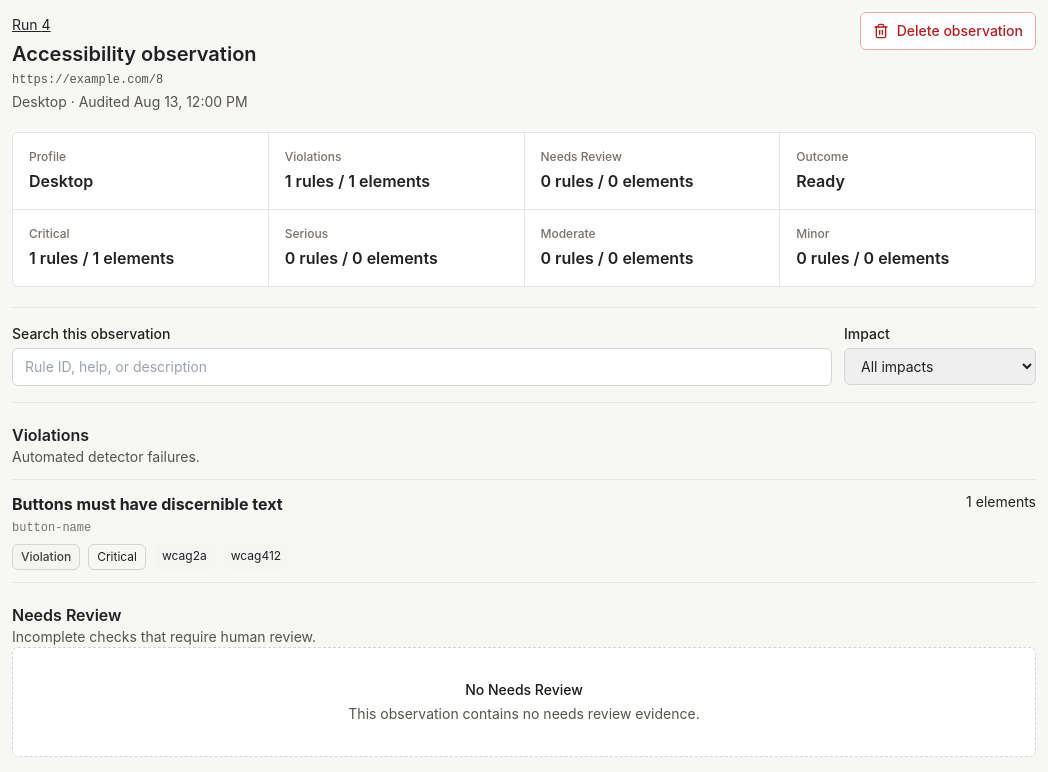
Test: human-readable observability details › loads historical Accessibility nodes lazily and keeps raw evidence secondary
Expected: the heading "Accessibility observation" is shown, left=12, top=40, right=257, bottom=68
Click the button "Buttons must have discernible text button-name 1 elements" at (147, 504), box left=12, top=492, right=1036, bottom=536
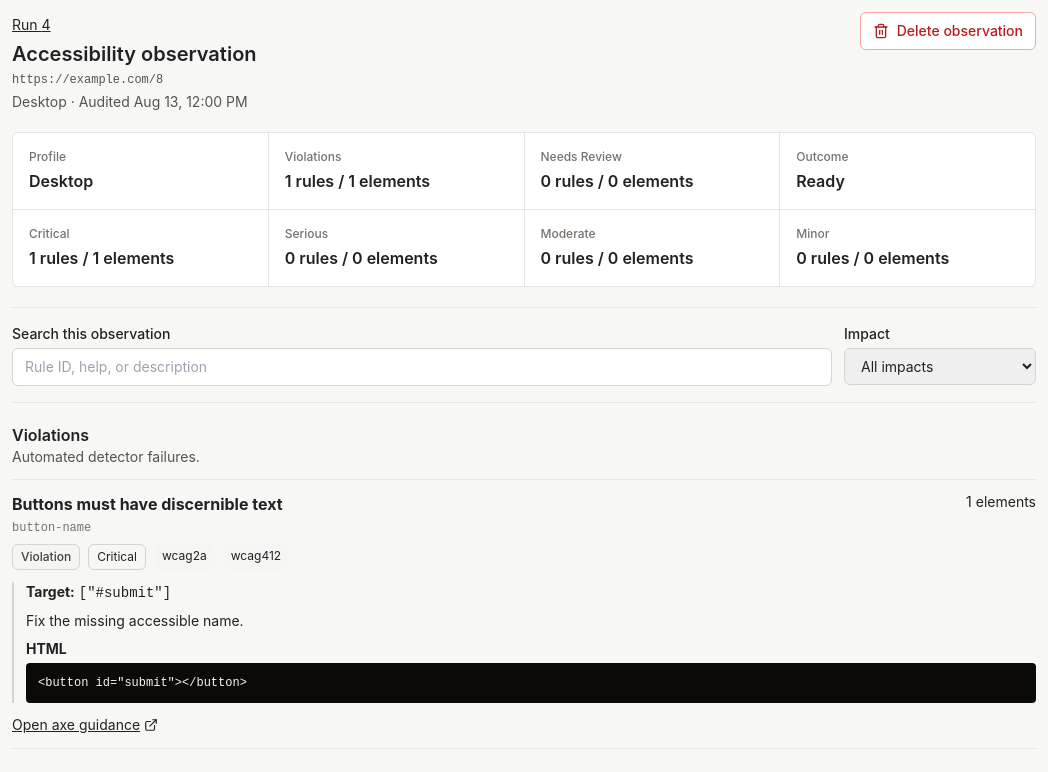
Expected: the text "Fix the missing accessible name." is shown, left=26, top=612, right=244, bottom=629
Expected: the text "[\"#submit\"]" is shown, left=79, top=585, right=171, bottom=601
Type "not present" into the field labelled "Search this observation" at (422, 367), box left=12, top=348, right=832, bottom=386
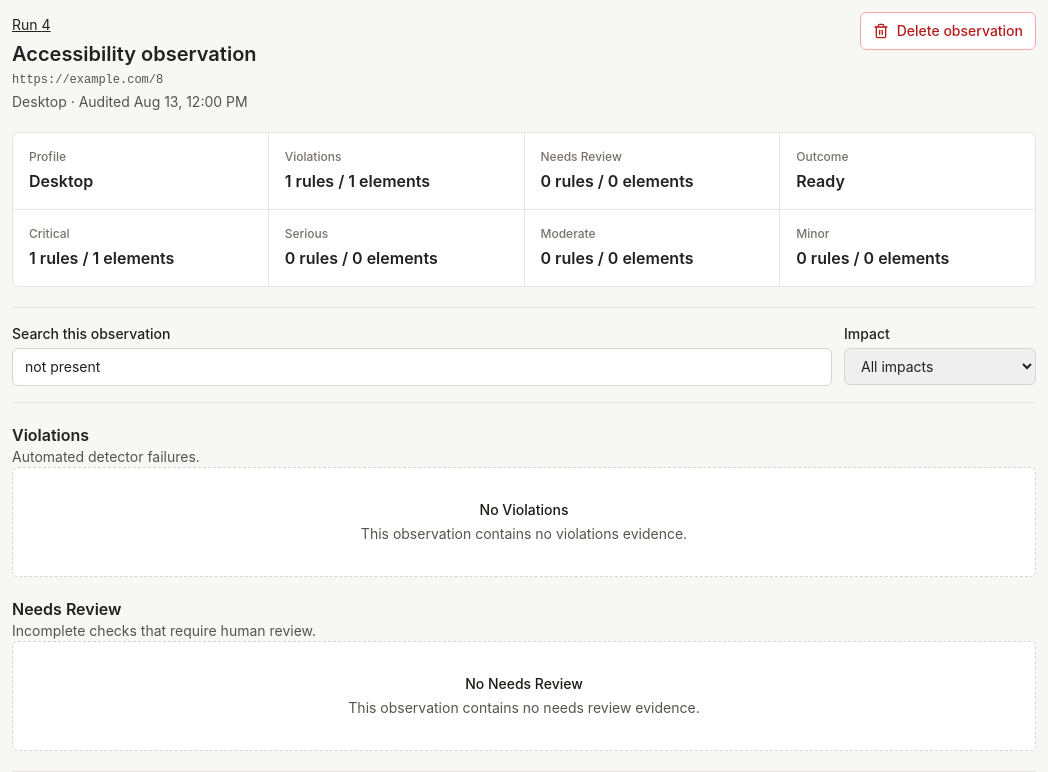
Expected: the button "Buttons must have discernible text" is gone
